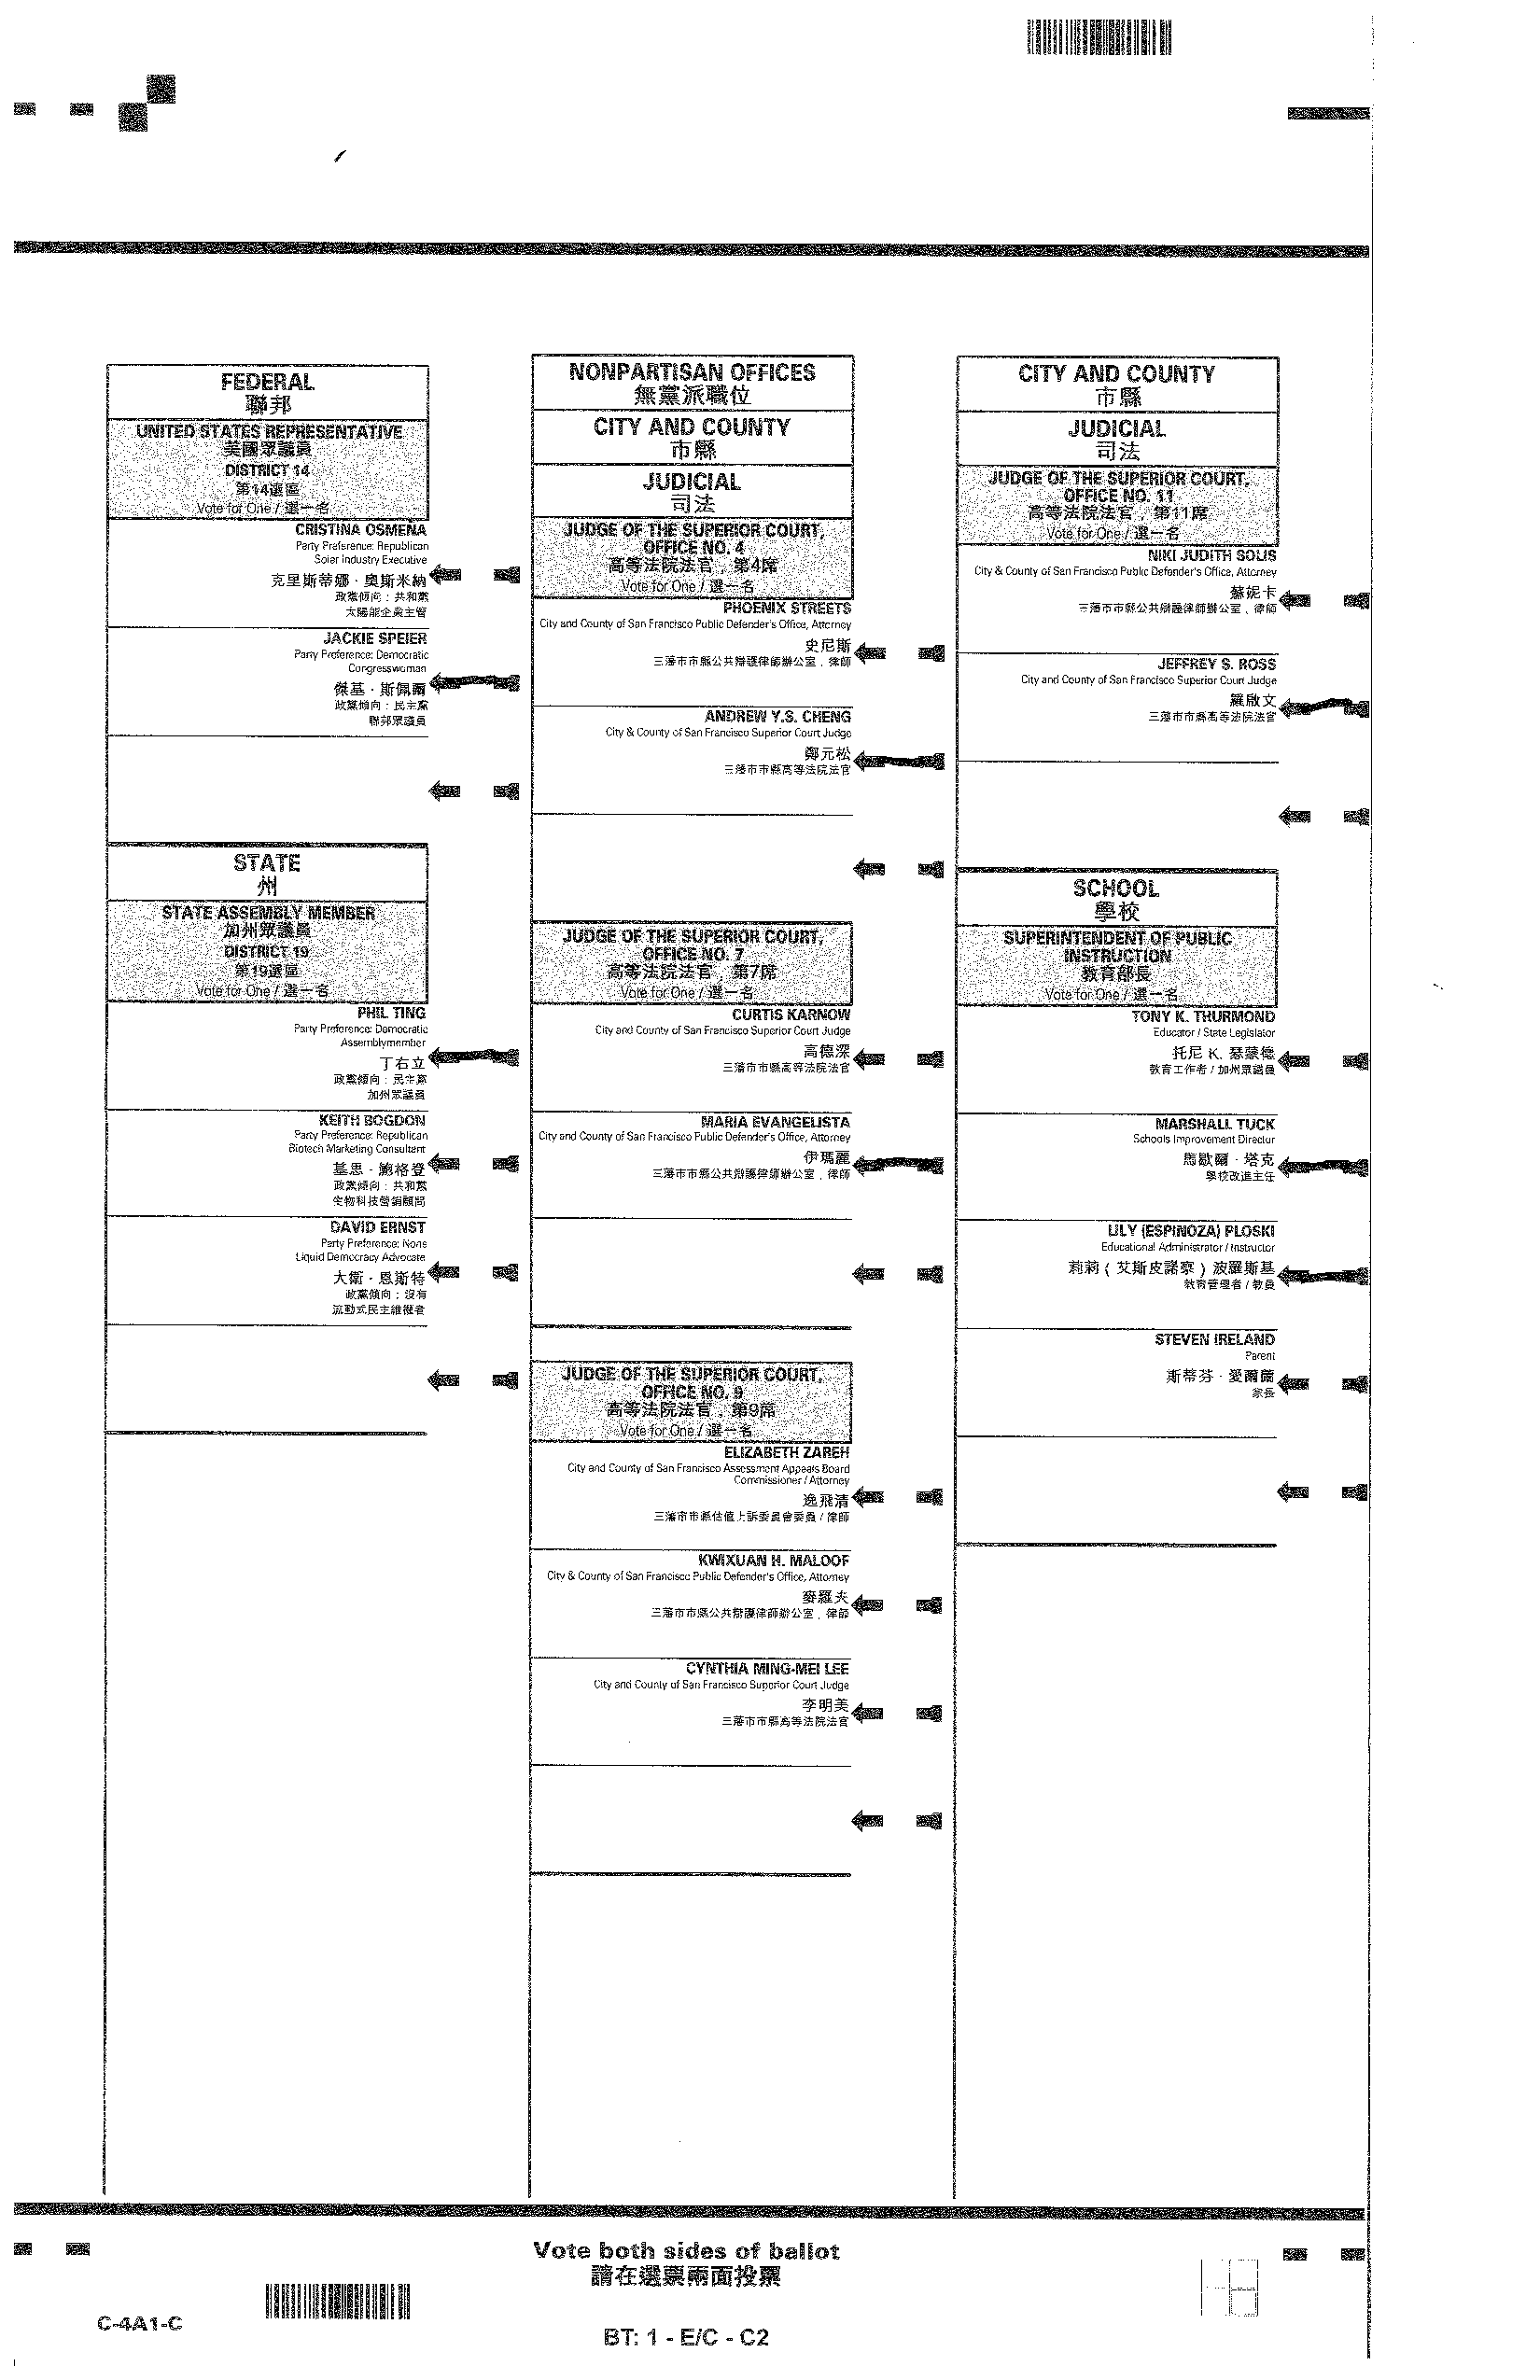marked: (1276, 1152, 1372, 1185), (1278, 694, 1370, 725), (852, 749, 947, 777), (427, 1044, 522, 1072), (1276, 1263, 1372, 1291), (852, 1155, 950, 1180), (428, 671, 522, 694)
unmarked: (427, 772, 520, 805), (425, 1148, 522, 1180), (430, 560, 522, 592), (850, 1589, 943, 1618), (848, 1808, 947, 1835), (1273, 1476, 1370, 1504), (425, 1369, 520, 1396), (1278, 803, 1372, 829), (1276, 1049, 1370, 1076), (852, 1263, 945, 1287), (848, 1485, 947, 1507)
